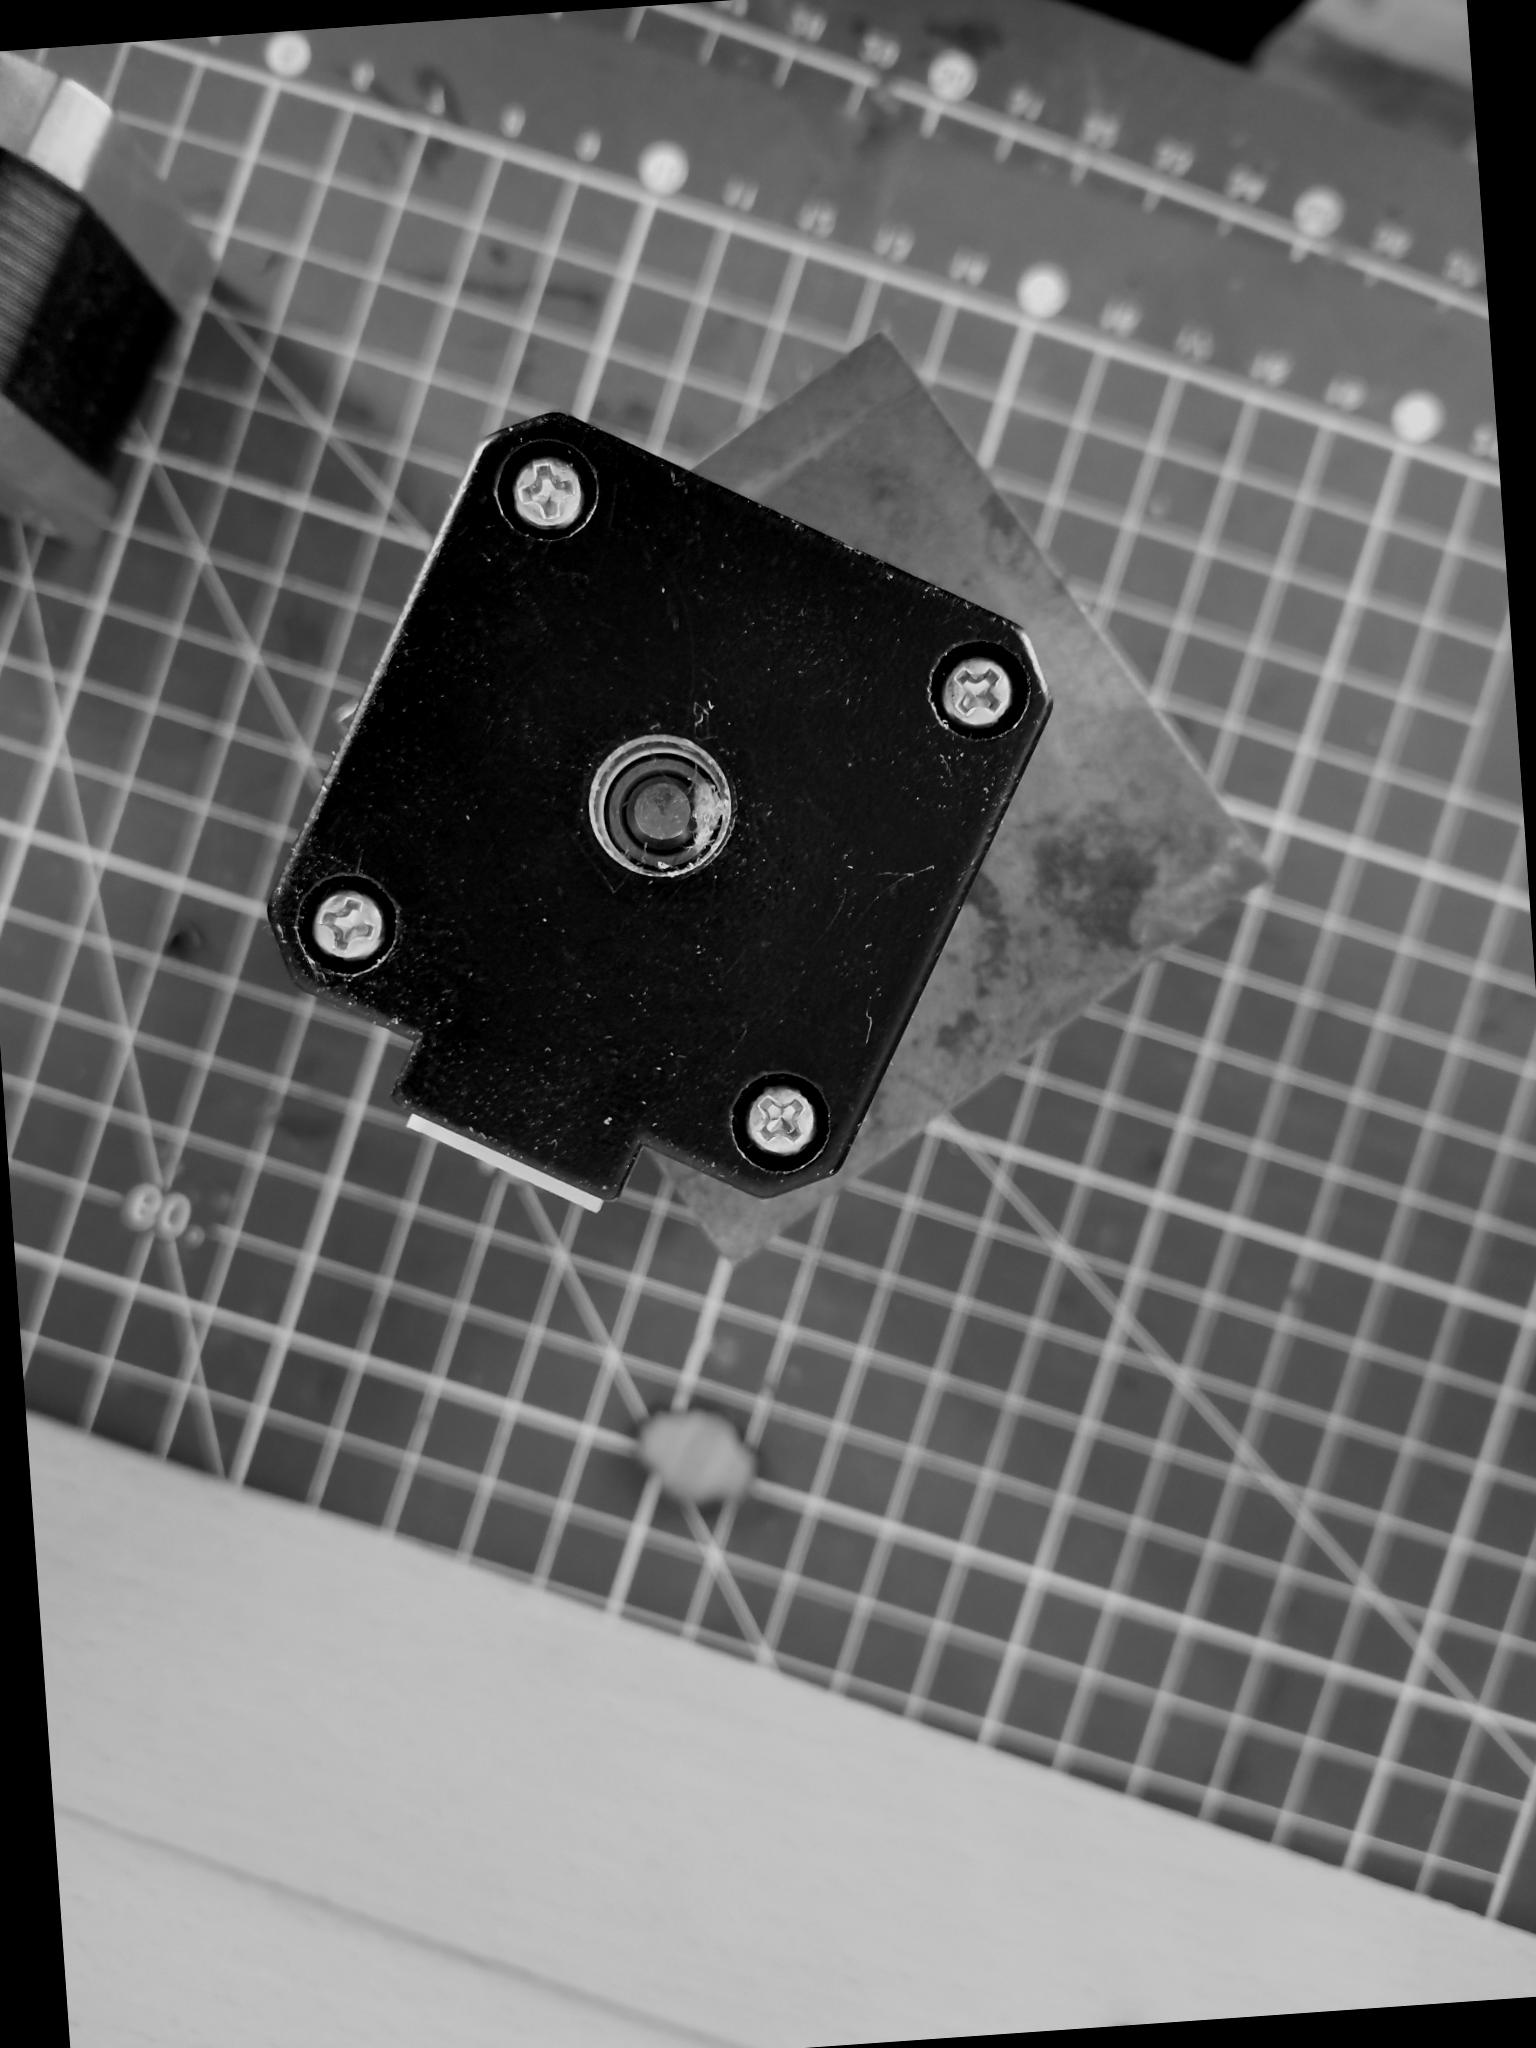philips-PZ: (482, 426, 607, 548), (921, 632, 1037, 755), (292, 864, 405, 985), (720, 1068, 836, 1169)
